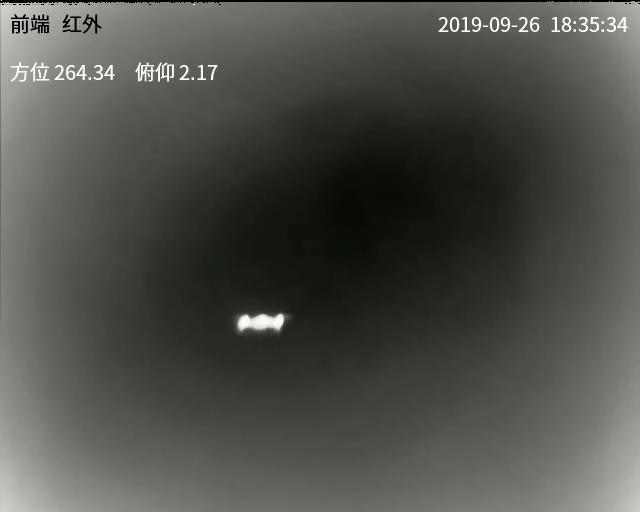uav: (228, 310, 295, 335)
